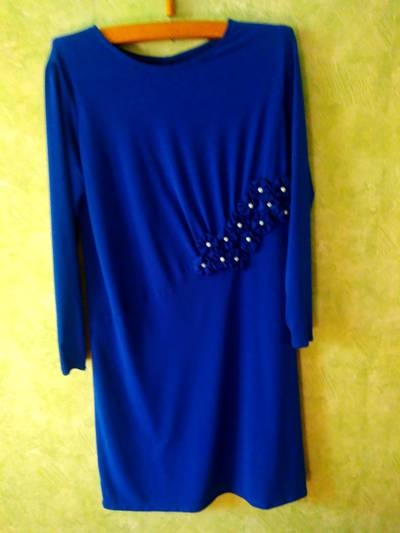Dress: (34, 14, 346, 521)
